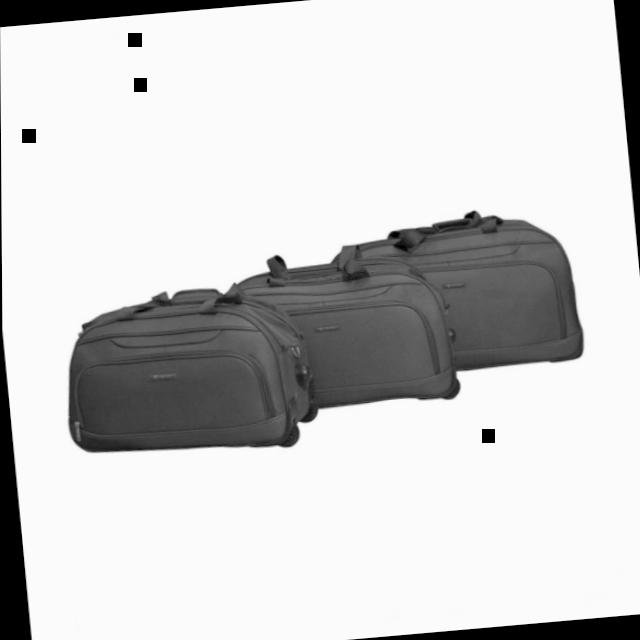luggage: (50, 276, 326, 464), (328, 204, 592, 386), (230, 248, 465, 423)
